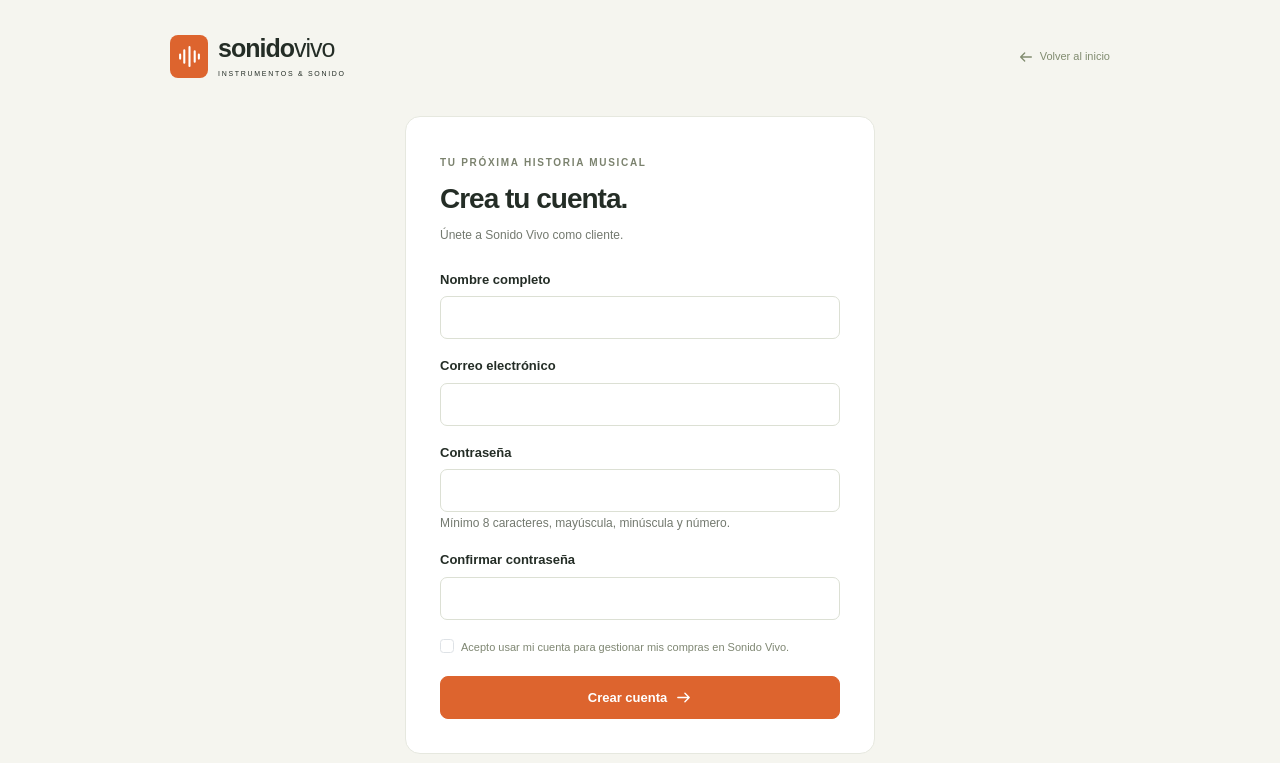
Test: Interacciones de administración y registro › el registro exige coincidencia de contraseñas y aceptación
This screenshot has width=1280, height=763.
In the password field labelled "Contraseña": (640, 491) [440,469,840,512], type "Musica2026!"
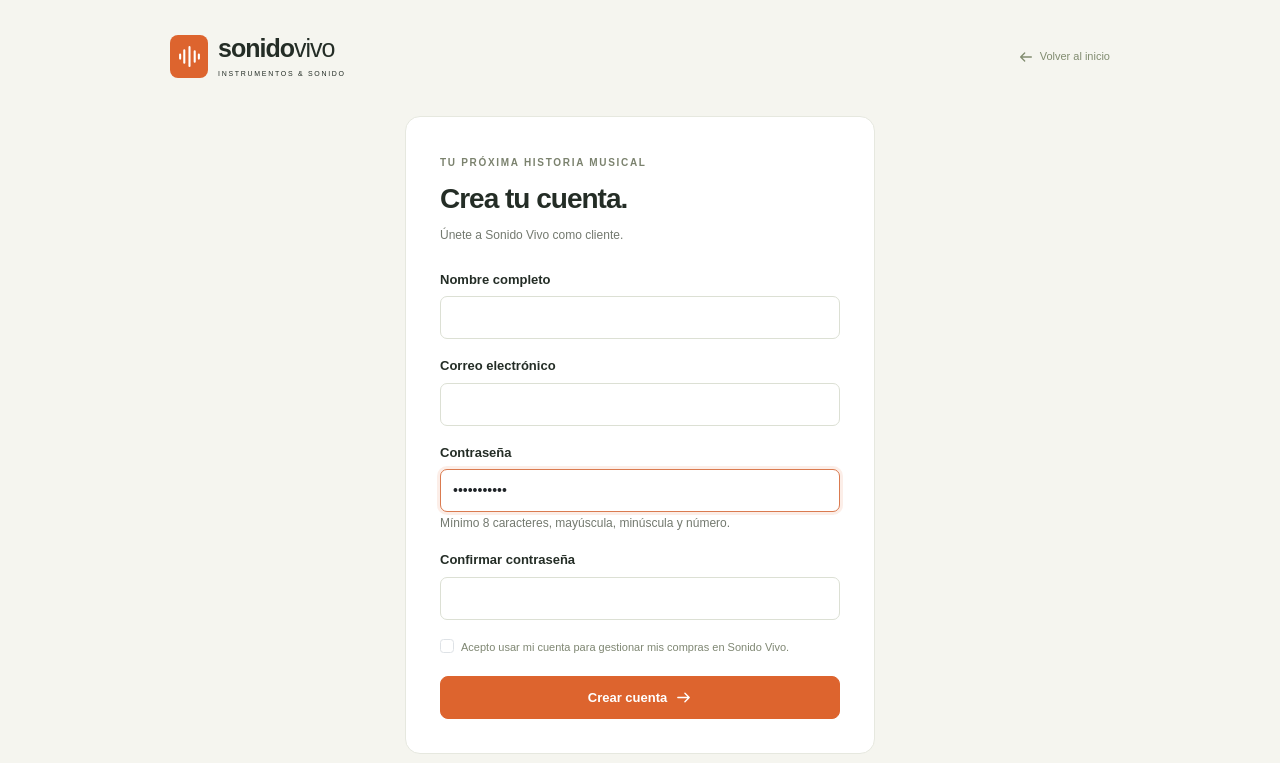
In the password field labelled "Confirmar contraseña": (640, 598) [440,577,840,620], type "Otra2026!"
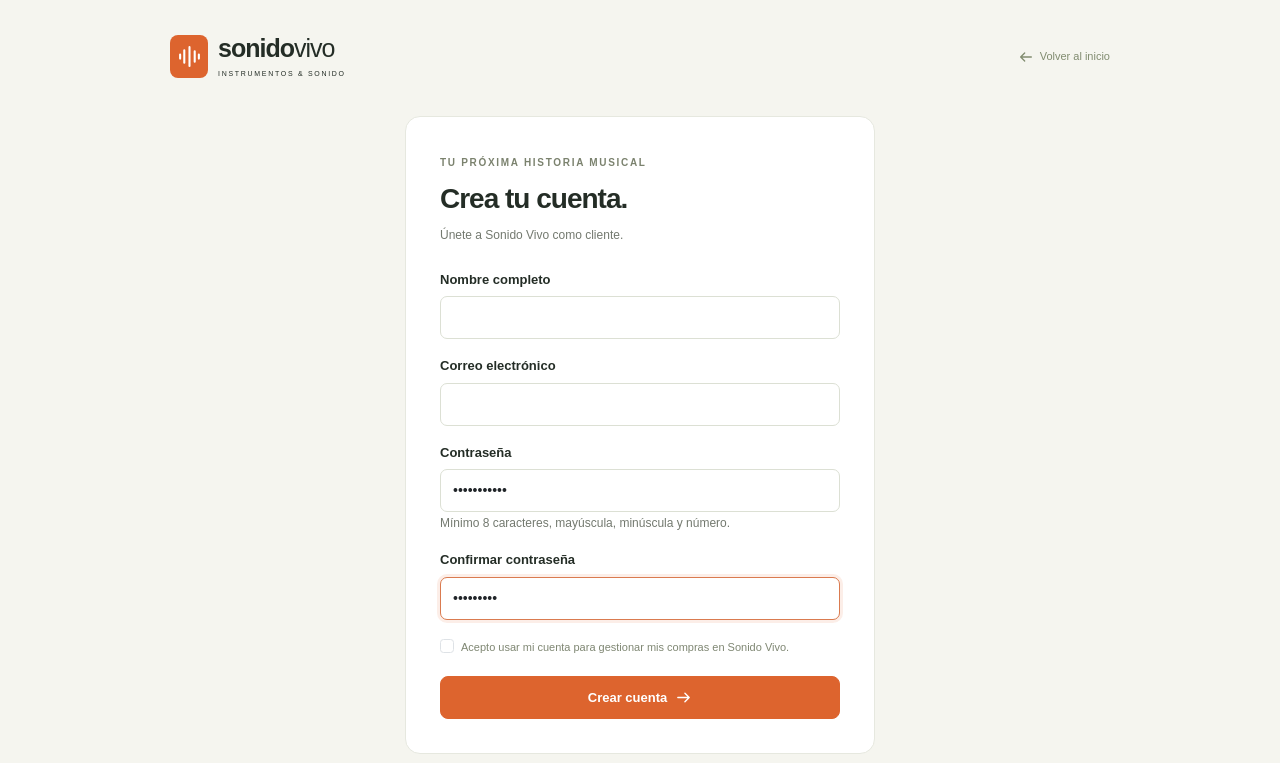
Click the button "Crear cuenta": (640, 697) [440,676,840,719]
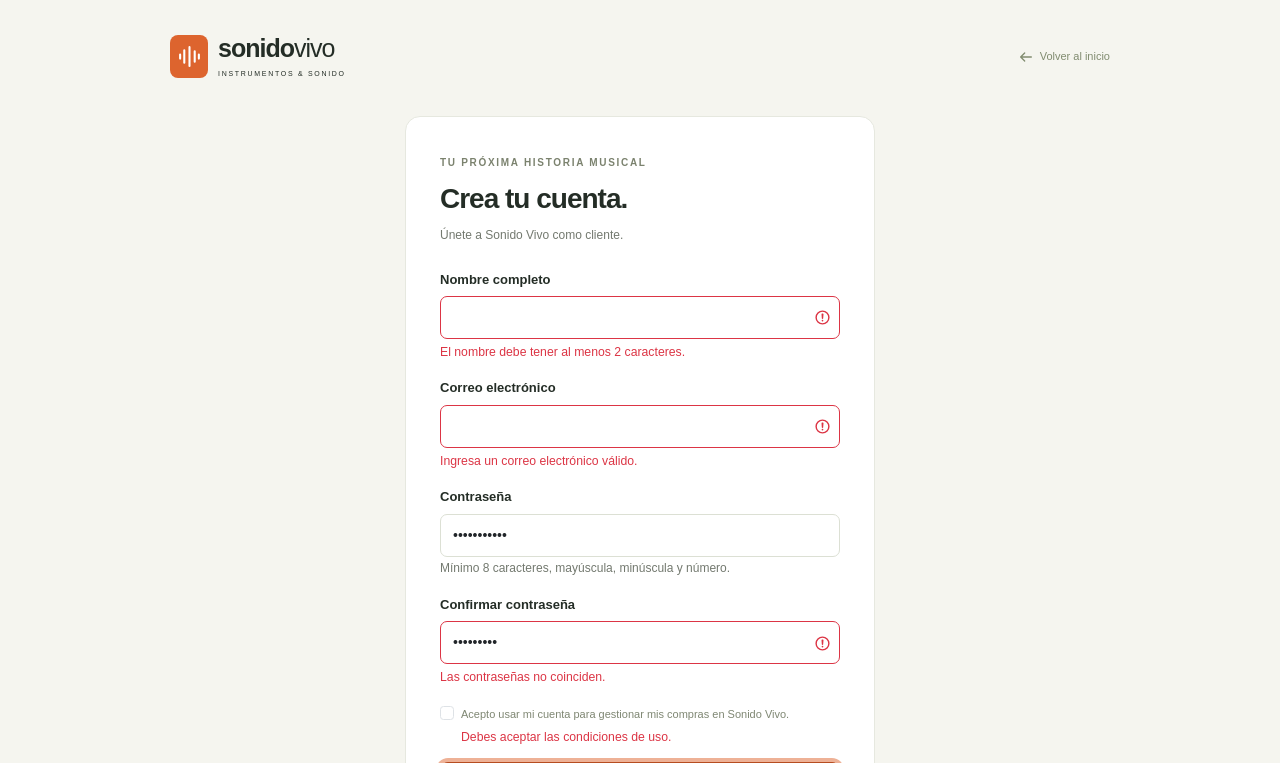
Check: the text "Las contraseñas no coinciden." is shown, box [440,670,606,684]
Check: the text "Debes aceptar las condiciones de uso." is shown, box [461,730,671,744]
